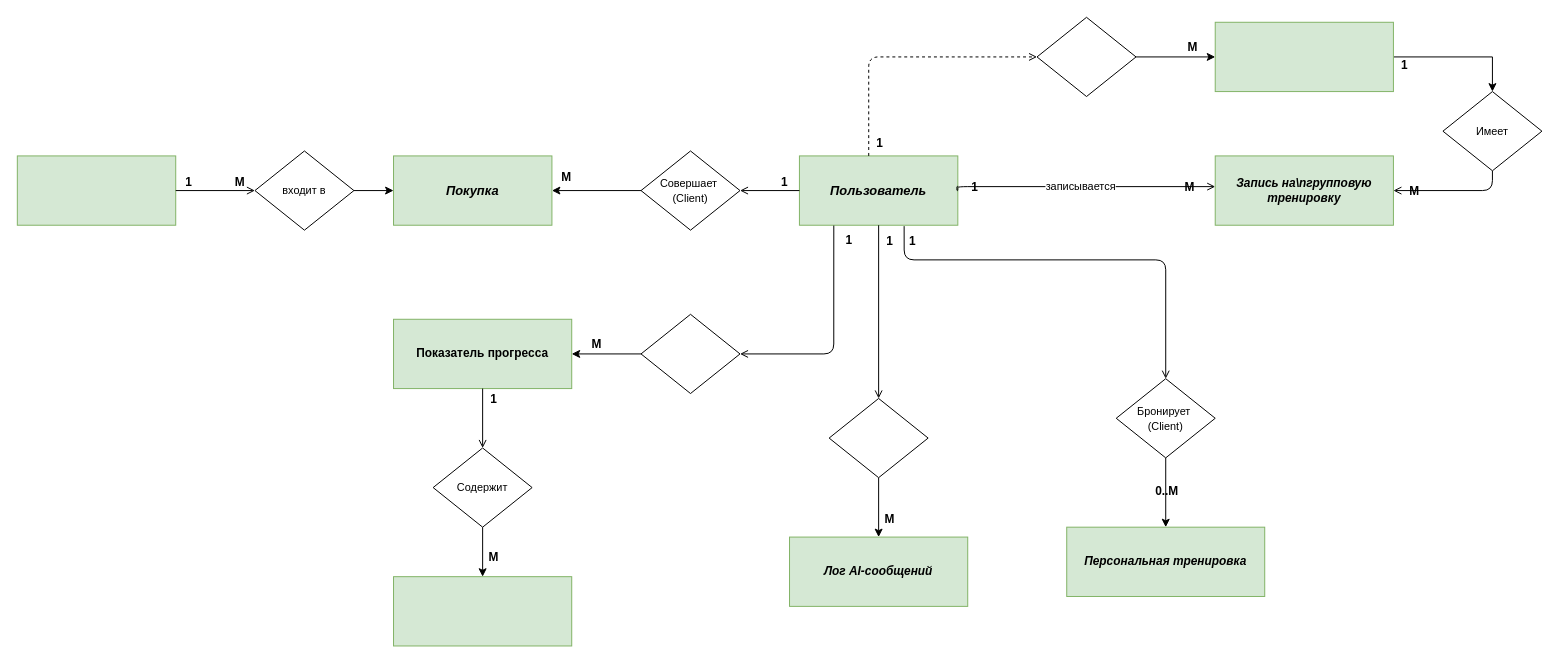
This 1559x663 diagram has some shape labels left out. Here are the shapes that lost their labels. From the top down, the box of each, then its label:
(1036, 16, 1136, 97): Ведет (Trainer)
(1214, 21, 1393, 92): Групповая тренировка
(16, 155, 176, 225): Абонемент
(640, 313, 740, 394): Отслеживает (Client, trainer)
(828, 397, 928, 478): Генерирует (Client)
(393, 576, 572, 646): Замер прогресса
